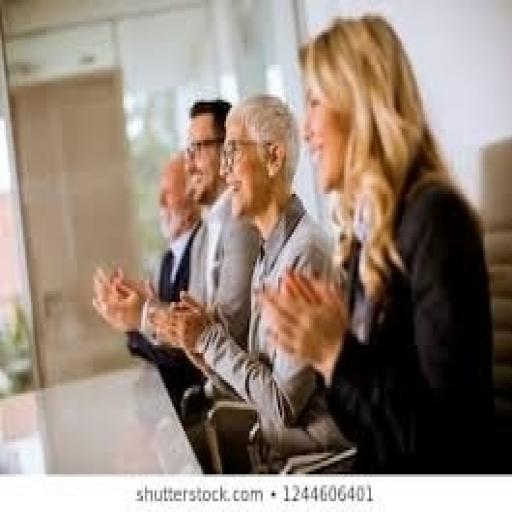clapping: (261, 10, 496, 472), (94, 65, 318, 452), (174, 93, 359, 446)
